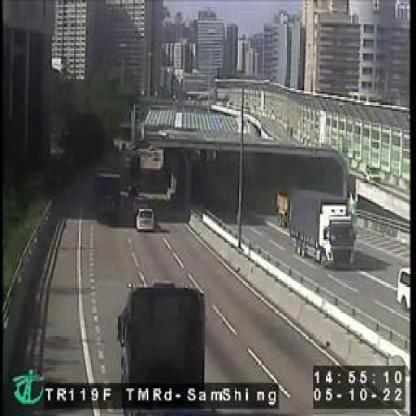Car: (135, 204, 156, 230)
Truck: (290, 189, 352, 265)
